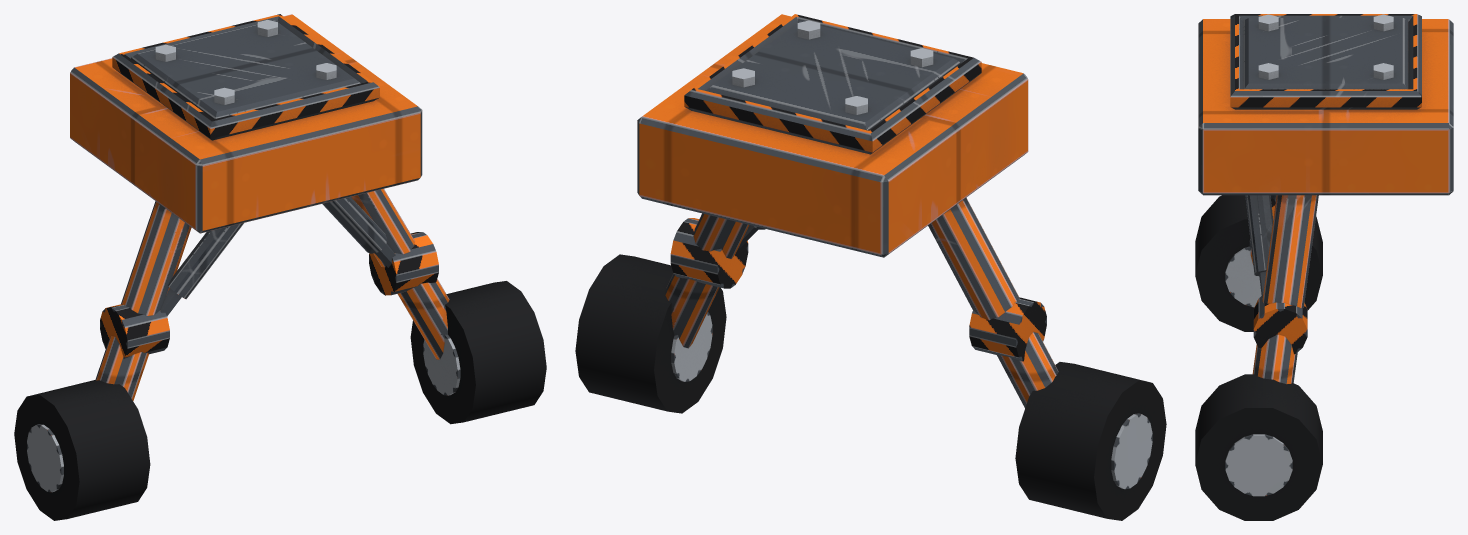
File: tren_aterrizaje_retractil_t2.fbx
3 views of the same model, side by side, from view 1: azimuth 30°, elevation 25°; view 2: azimuth 150°, elevation 25°; view 3: azimuth 270°, elevation 25° (orthographic). The views are drawn at different scales.
Parts seen in each view (by area): view 1: tren_aterrizaje_retractil_t2.001, tren_aterrizaje_retractil_t2_patas; view 2: tren_aterrizaje_retractil_t2.001, tren_aterrizaje_retractil_t2_patas; view 3: tren_aterrizaje_retractil_t2.001, tren_aterrizaje_retractil_t2_patas.
Part boxes in pixels (x1,y1,x2,y2): tren_aterrizaje_retractil_t2.001: [70, 14, 422, 233]; tren_aterrizaje_retractil_t2_patas: [14, 189, 546, 520]; tren_aterrizaje_retractil_t2.001: [637, 14, 1028, 257]; tren_aterrizaje_retractil_t2_patas: [575, 197, 1166, 520]; tren_aterrizaje_retractil_t2.001: [1198, 14, 1453, 195]; tren_aterrizaje_retractil_t2_patas: [1195, 195, 1322, 520].
Size of the model in its own units: 3.34 by 2.53 by 1.62.
